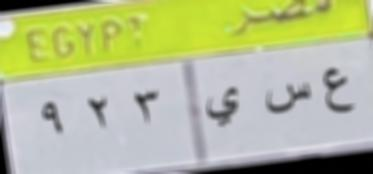2: (85, 92, 119, 136)
3: (131, 84, 164, 137)
9: (33, 98, 74, 142)
ain: (318, 62, 359, 124)
seen: (264, 83, 313, 123)
yaa: (202, 82, 242, 132)
